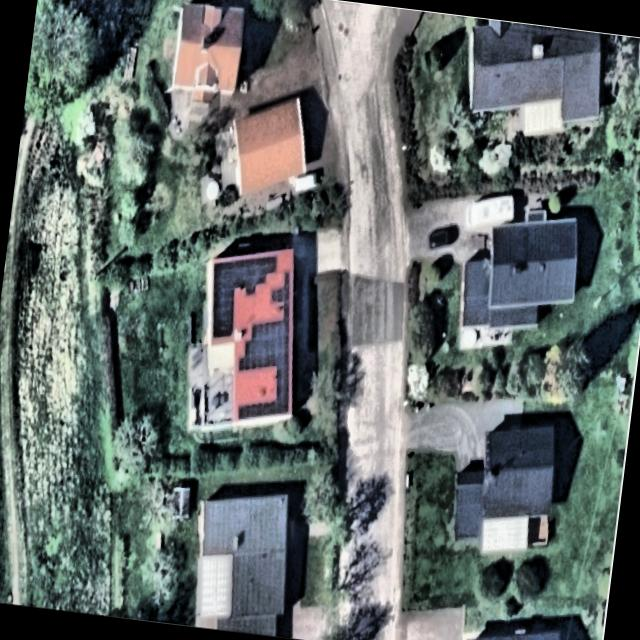roof_pv: (237, 299, 297, 379), (202, 252, 244, 346), (235, 243, 283, 300), (232, 392, 286, 426), (268, 356, 296, 419), (264, 257, 297, 310)
